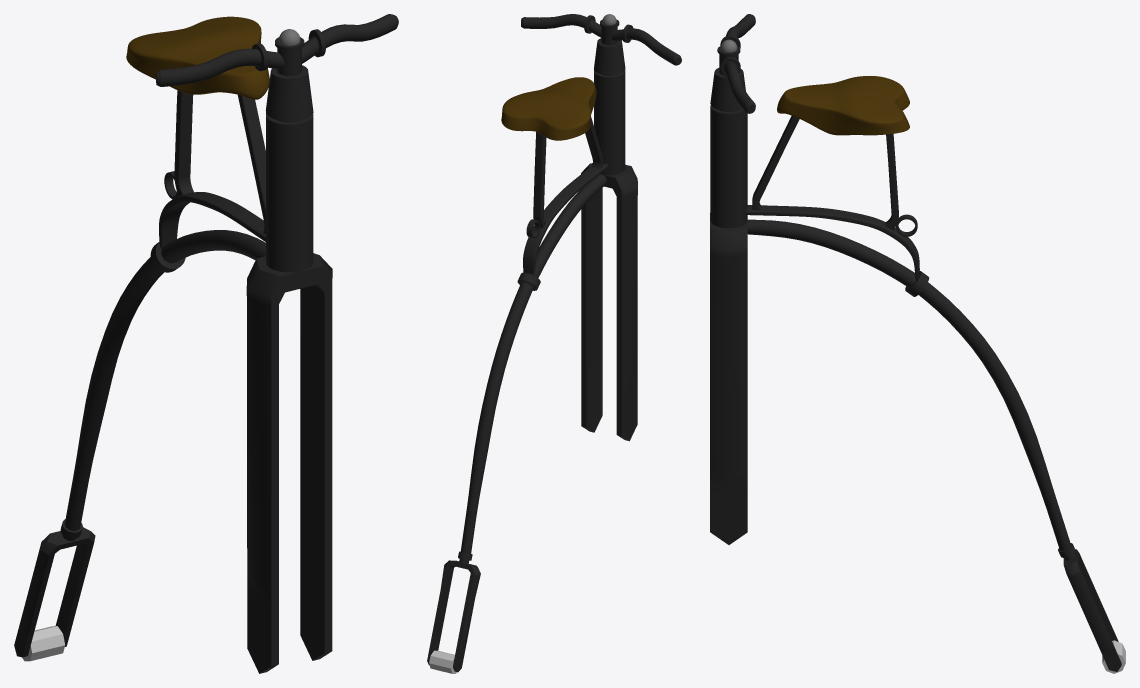
File: BikeBody2.fbx
The picture shows the model from 3 angles, left to right: view 1: azimuth 30°, elevation 25°; view 2: azimuth 150°, elevation 25°; view 3: azimuth 270°, elevation 25°; orthographic projection. The views are drawn at different scales.
Parts seen in each view (by area): view 1: polySurface180; view 2: polySurface180; view 3: polySurface180.
Boxes of the visible parts, left/top/right/bottom form: polySurface180: left=14, top=14, right=398, bottom=673; polySurface180: left=427, top=14, right=681, bottom=673; polySurface180: left=710, top=14, right=1125, bottom=673.
Bounding box in the file's own units: 13.68 × 43.67 × 26.23.
